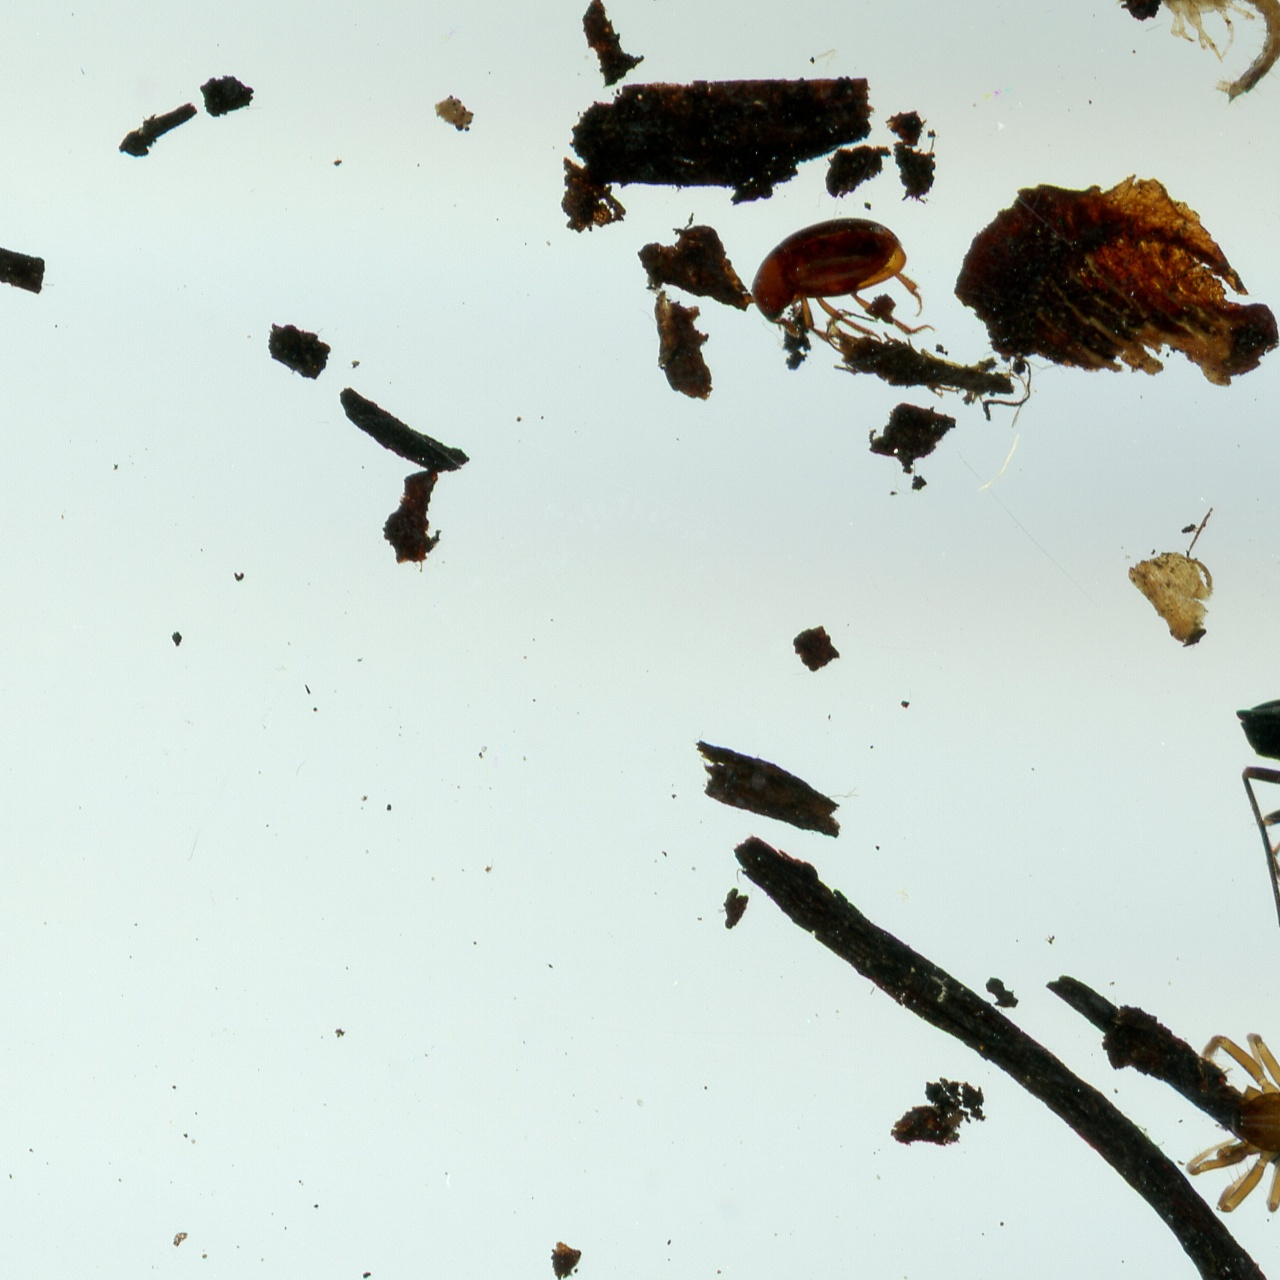arthropod: (750, 214, 934, 345), (1100, 0, 1280, 106), (1189, 1016, 1280, 1212), (1235, 643, 1280, 982)
